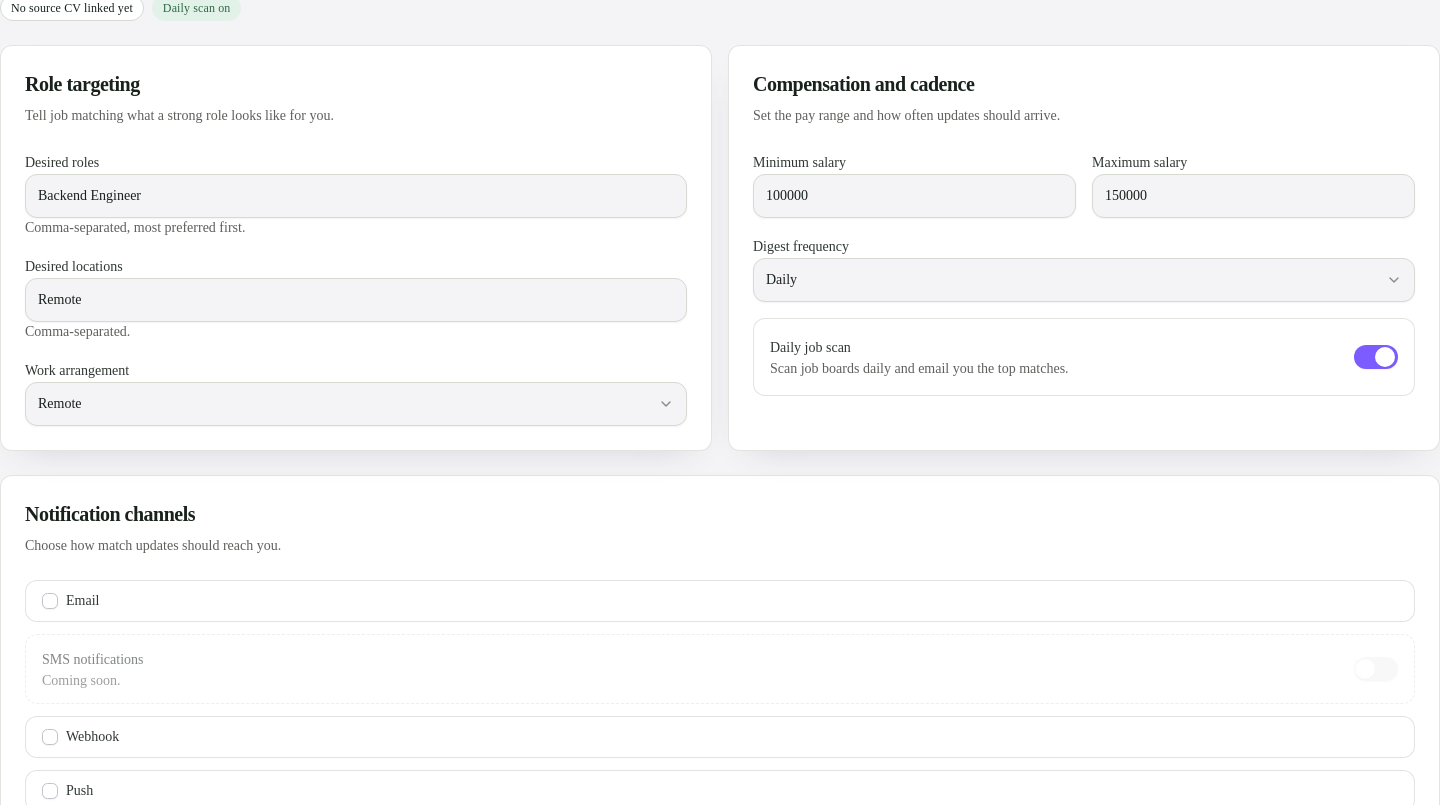
Scenario: PreferencesForm › renders an enabled webhook checkbox and reveals a URL input once checked
Expected: the field labelled "Webhook URL" is not shown
Click the checkbox named "Webhook" next to "Webhook" at (50, 737), box [42,729,58,745]
(page scrolled)
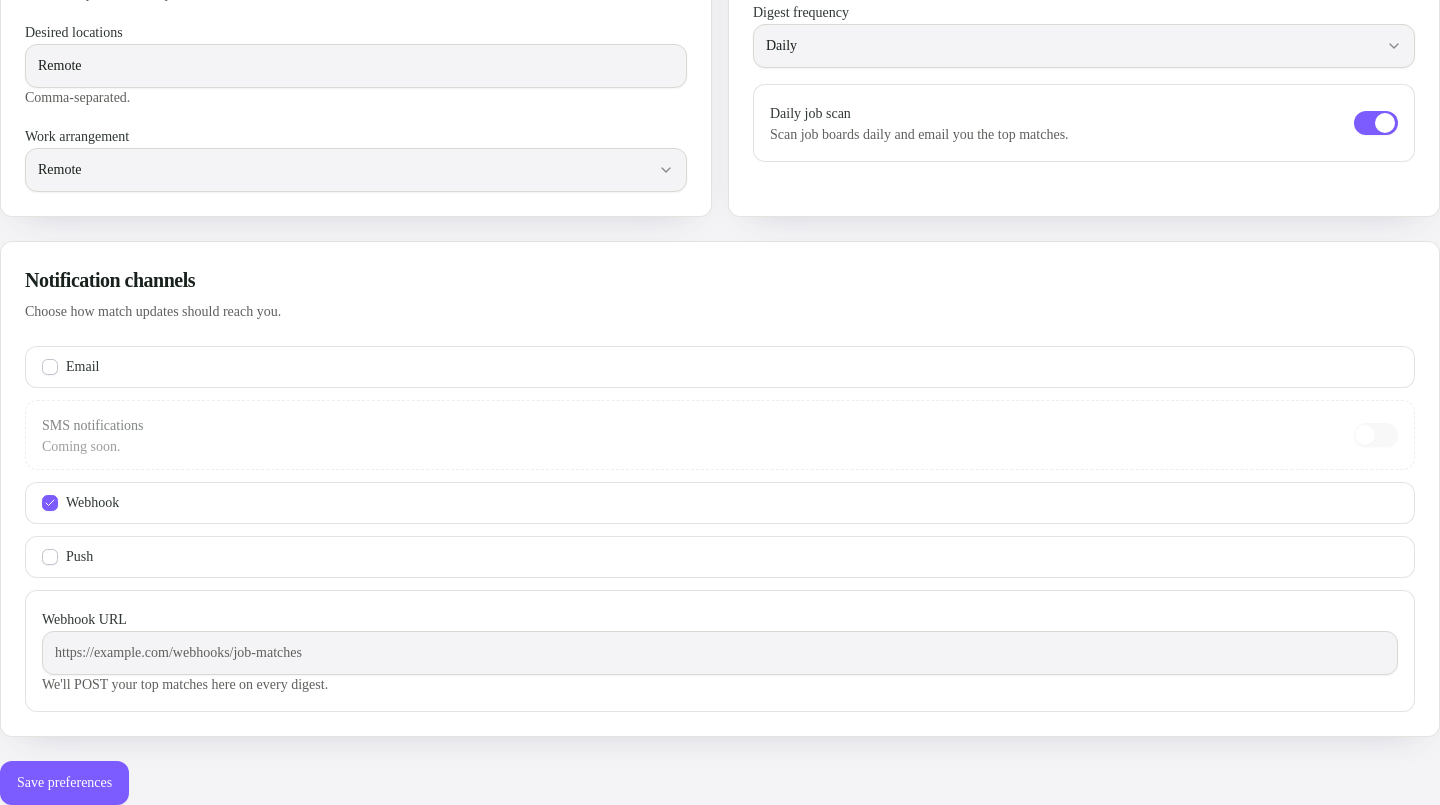
Now the field labelled "Webhook URL" is shown, box [42,631,1398,675]
